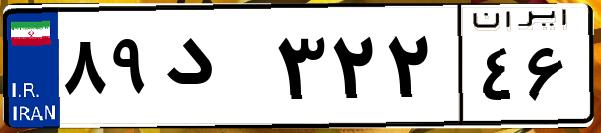2: (385, 28, 445, 110), (330, 28, 385, 110)
3: (270, 28, 330, 110)
4: (475, 38, 525, 113)
6: (525, 38, 570, 115)
8: (57, 26, 110, 100)
9: (110, 28, 158, 98)
د: (158, 20, 270, 120)
